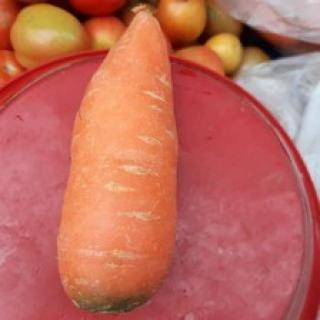carrot: (58, 9, 179, 314)
